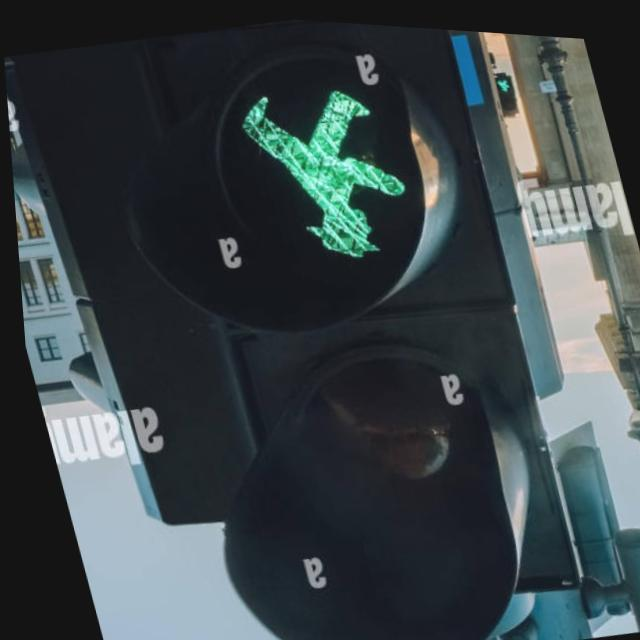green_light: (225, 72, 423, 279)
